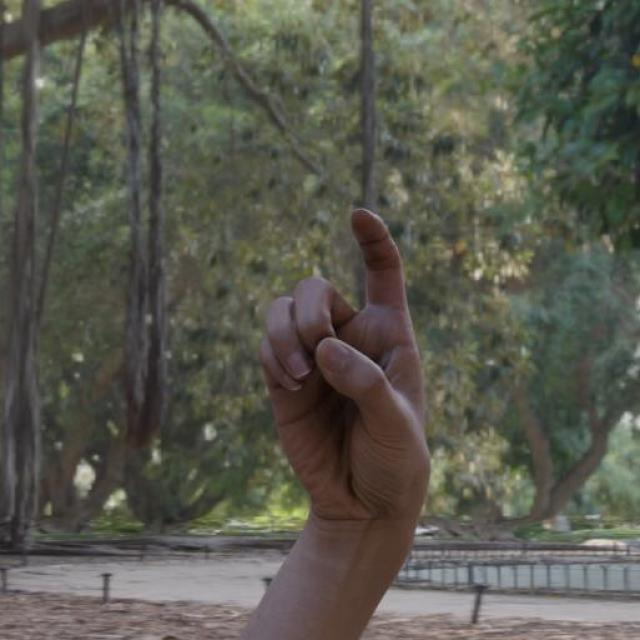X: (256, 205, 435, 527)
